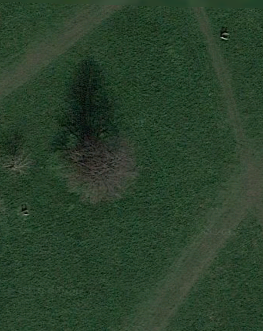tree: (54, 138, 140, 205)
